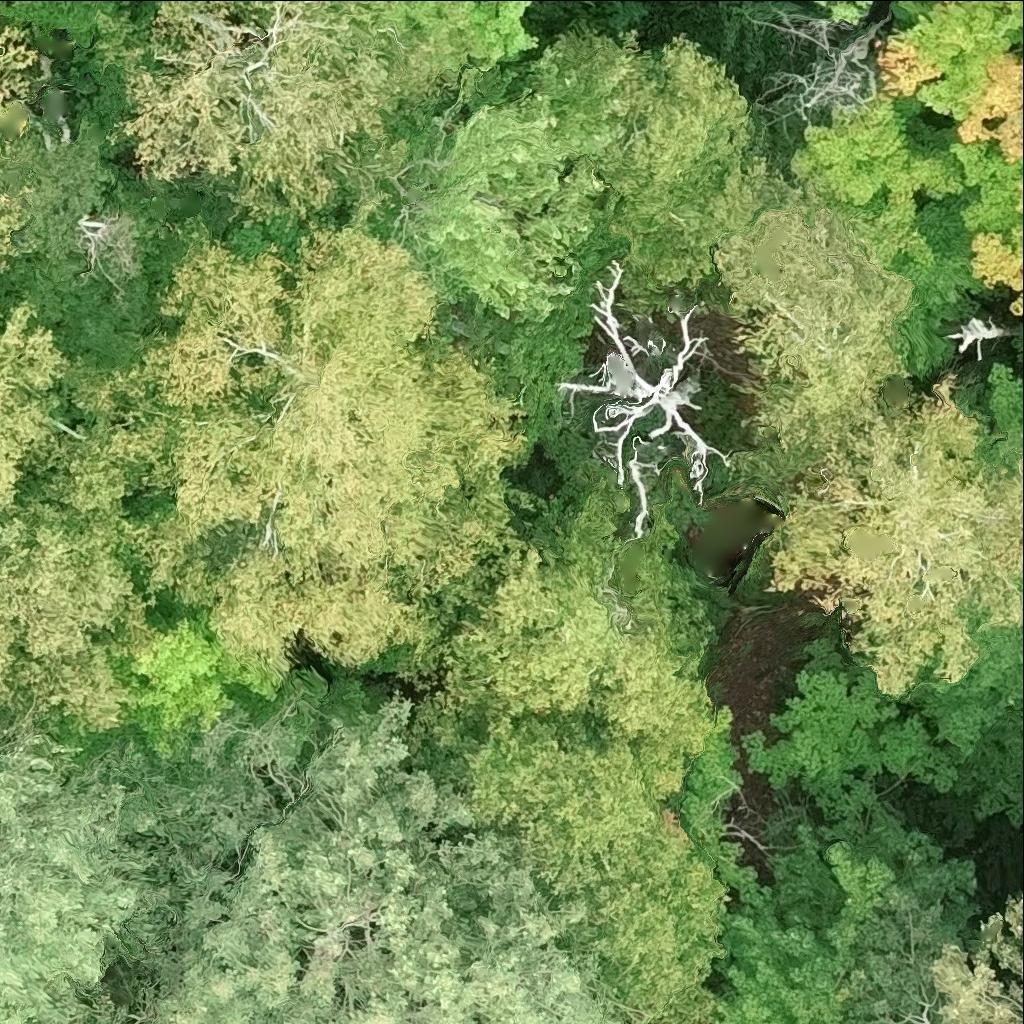crown: (68, 695, 629, 1023), (78, 227, 525, 613), (400, 484, 756, 887), (420, 712, 728, 1023), (792, 0, 1023, 372), (773, 380, 1023, 696), (550, 22, 804, 314), (106, 0, 428, 220), (701, 777, 977, 1023), (744, 585, 1023, 824), (389, 93, 607, 323), (720, 208, 913, 458), (0, 737, 158, 1023), (560, 258, 728, 504), (0, 492, 166, 730), (0, 305, 147, 512), (209, 573, 438, 683), (837, 895, 1023, 1023), (123, 612, 280, 757), (0, 0, 131, 46), (973, 364, 1023, 481), (972, 224, 1023, 315), (0, 26, 37, 117), (0, 193, 30, 269), (819, 0, 874, 26), (163, 0, 248, 8), (1007, 577, 1023, 608), (1014, 176, 1023, 211), (27, 1017, 46, 1023), (0, 137, 4, 152), (992, 285, 1000, 291), (0, 308, 3, 320)
